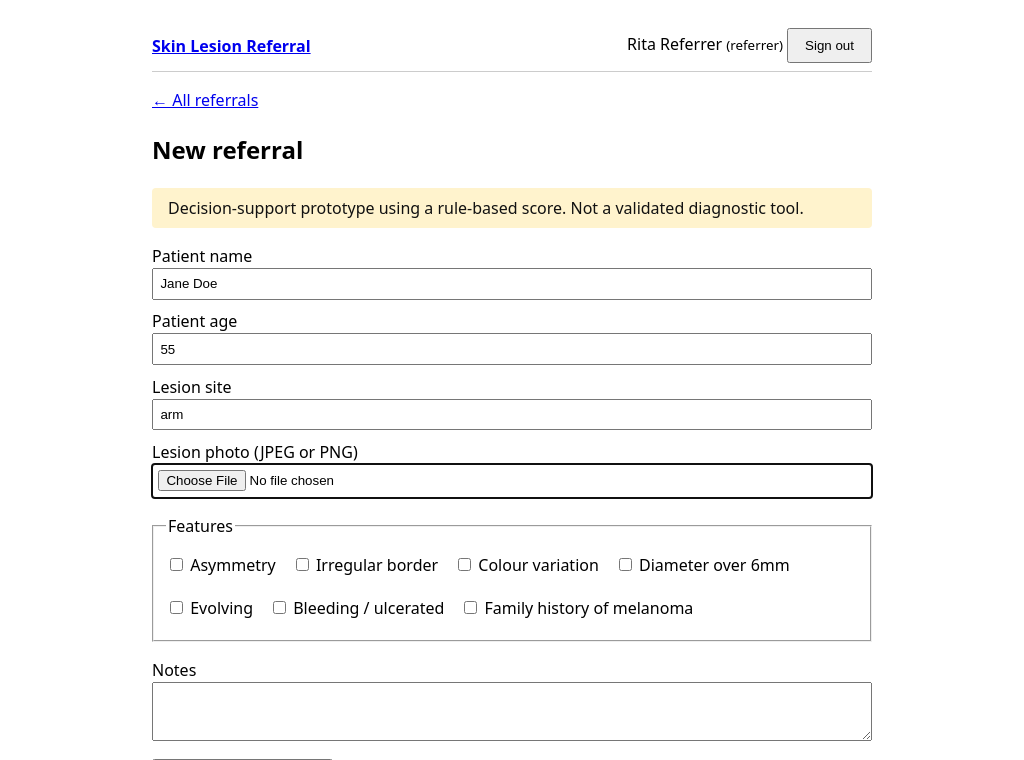
Test: App › submits with an Idempotency-Key and explicit booleans, then opens the referral
The image size is (1024, 760).
Earlier steps of the test are not shown.
Click the checkbox labelled "Evolving".
click(176, 608)  # box [170, 601, 183, 614]
(page scrolled)
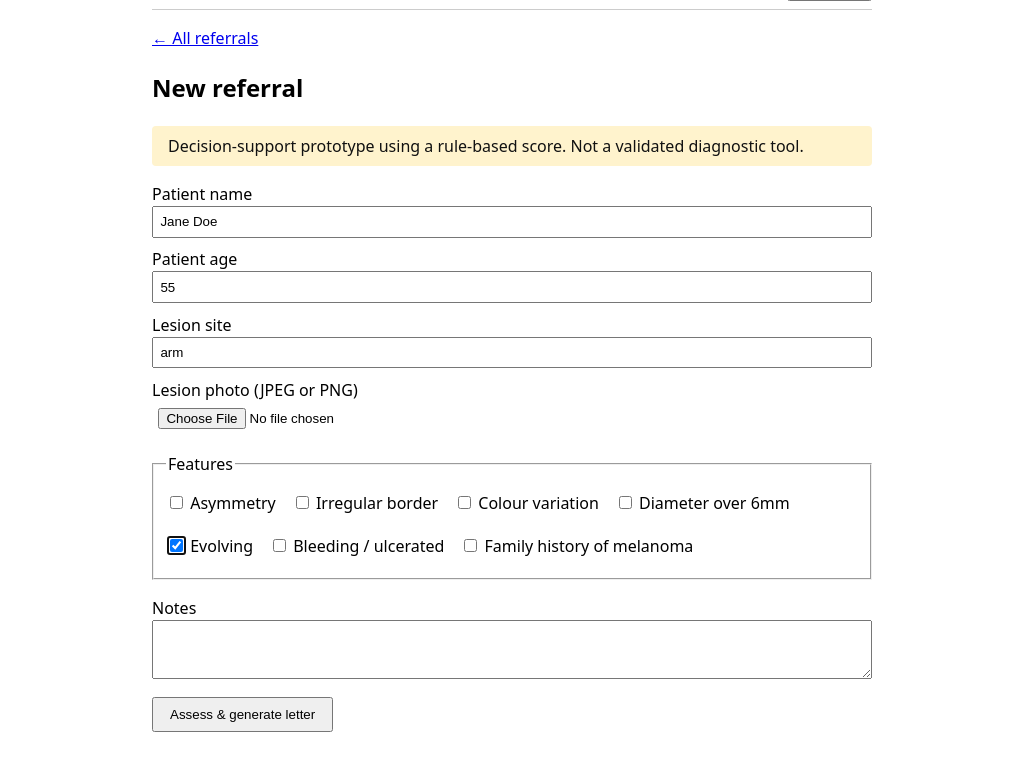
Submit the form named "Referral form", box [152, 182, 872, 732]
(page scrolled)
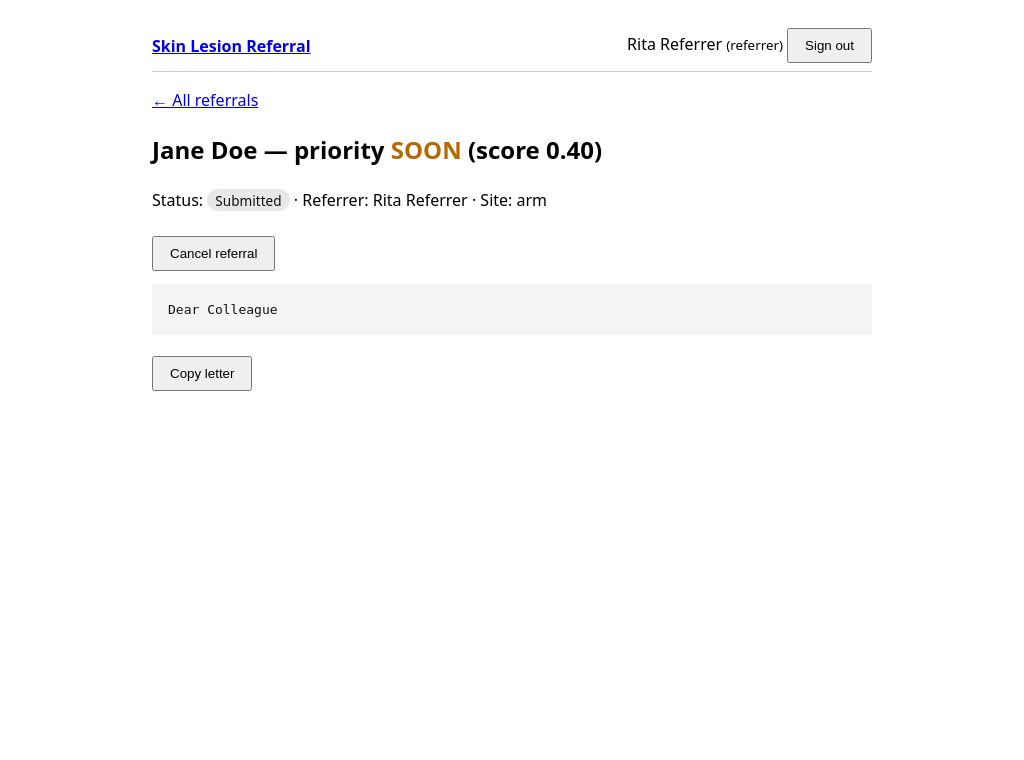
Expected: the text "Dear Colleague" is shown, [152, 284, 872, 335]
